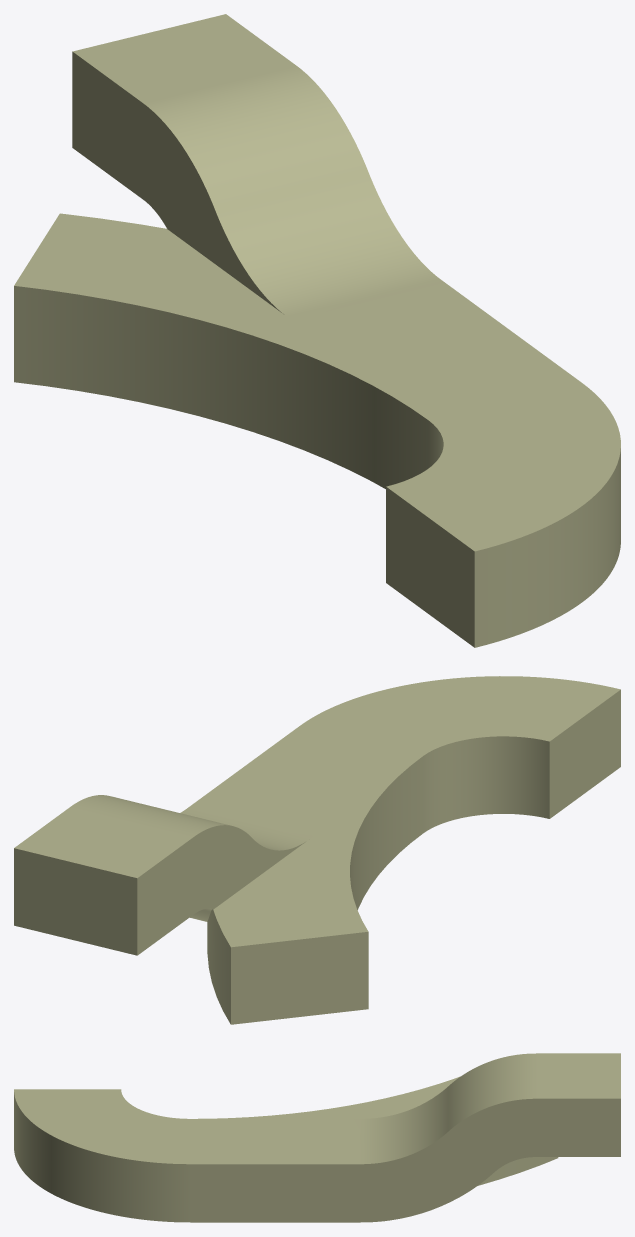
Rendered from model_09_hover.glb.
The picture shows the model from 3 angles, top to bottom: view 1: azimuth 30°, elevation 25°; view 2: azimuth 150°, elevation 25°; view 3: azimuth 270°, elevation 25°; orthographic projection. The views are drawn at different scales.
Size of the model in its own units: 97.24 by 58.21 by 259.
